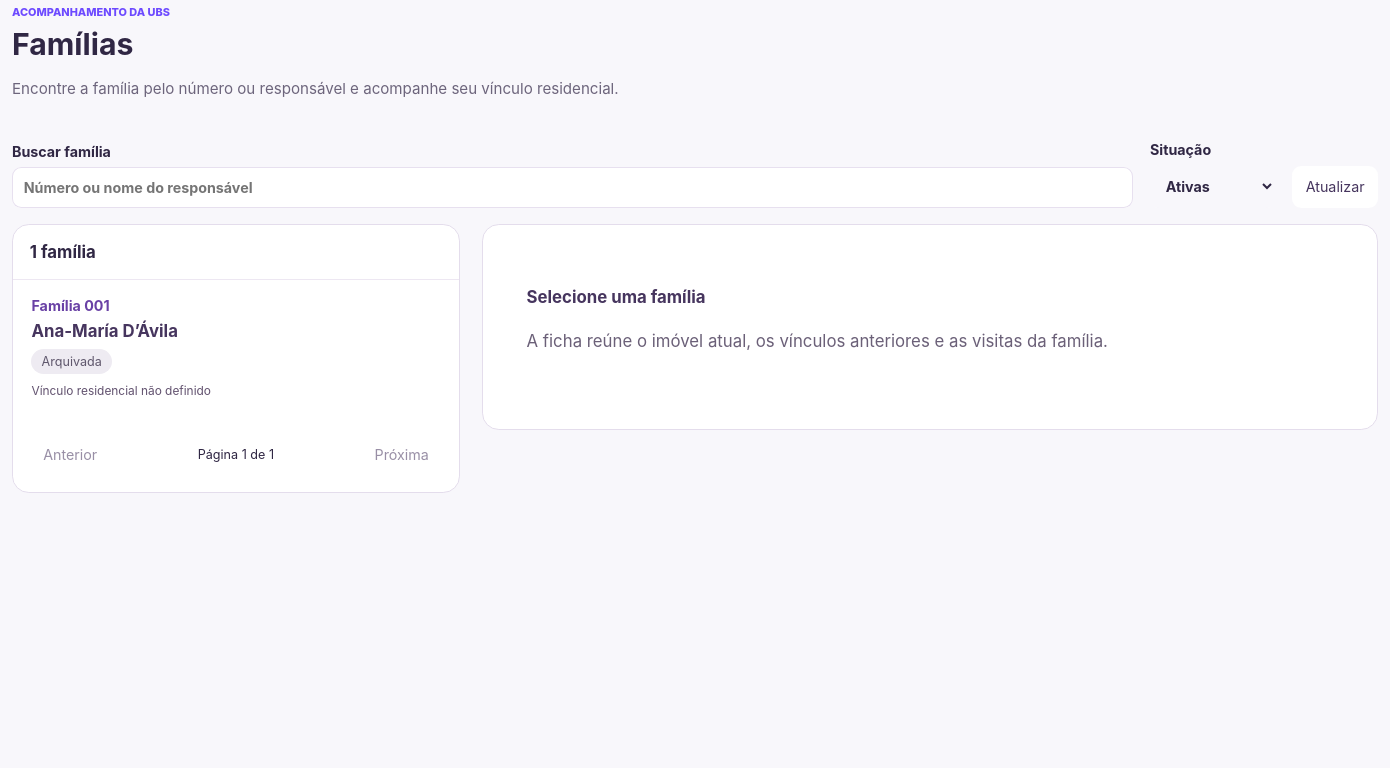
Cadastro e acompanhamento de famílias › limita ações para perfil de consulta e apresenta família arquivada
Click the button "Família 001": (58, 305) [13,280,459,416]
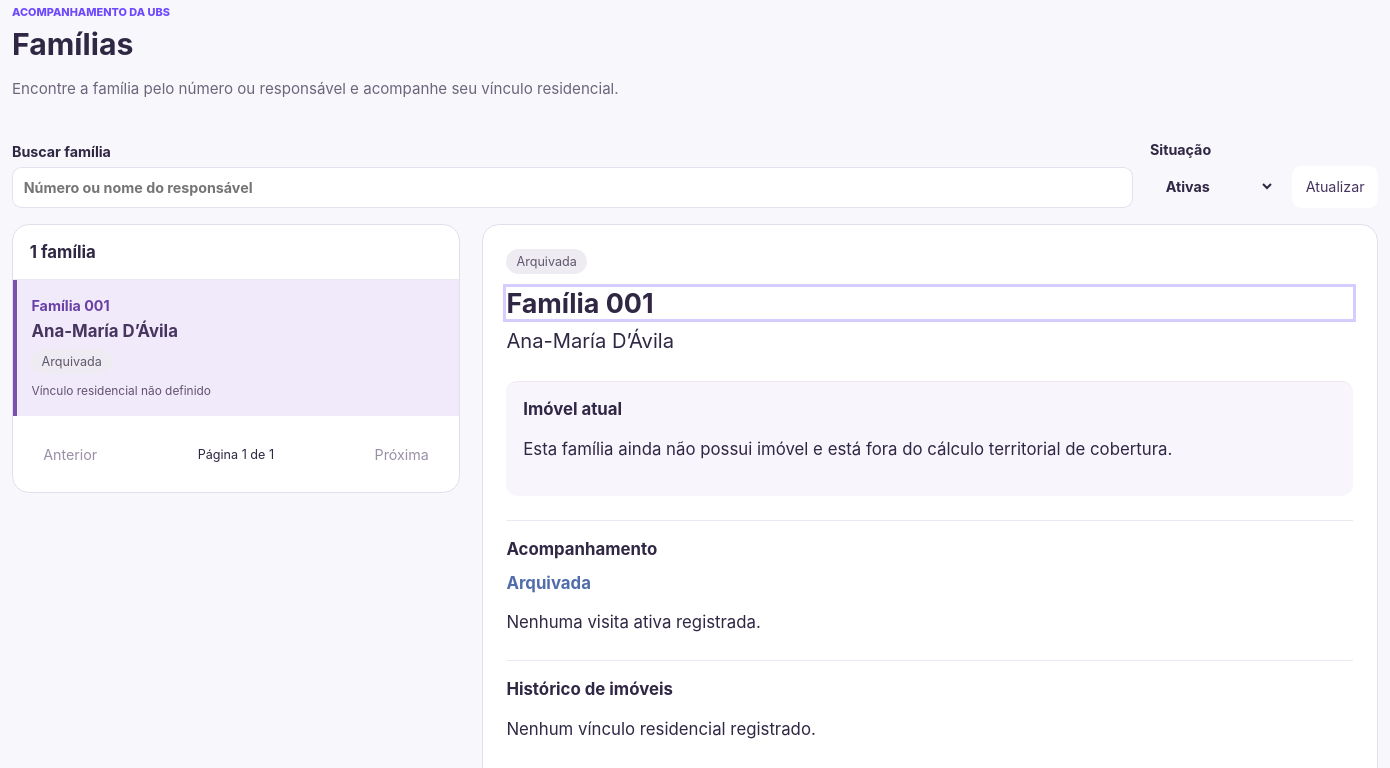
Expected: the 2nd text "Arquivada" is shown, [32,349,112,374]
Result: the heading "Família 001" is shown at [506,287,1354,319]
